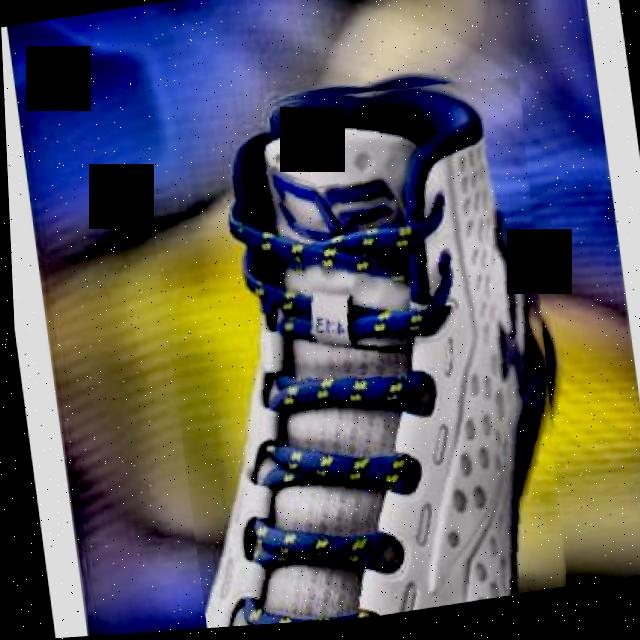shoe: (136, 63, 580, 633)
